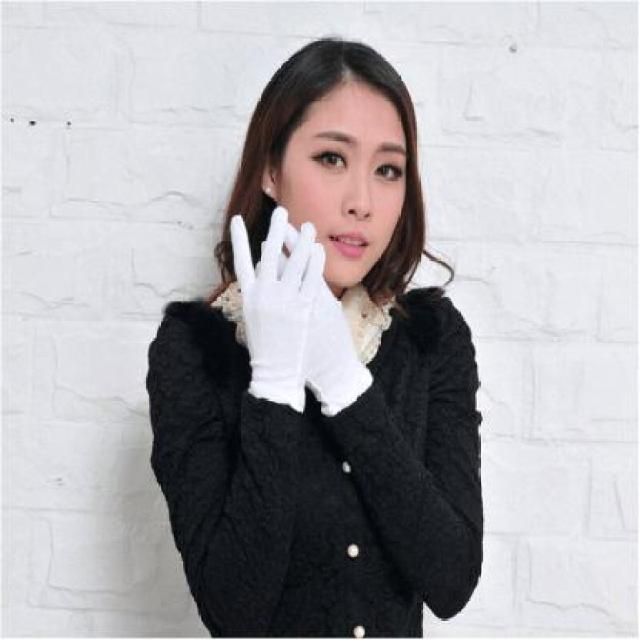face_nomask: (269, 97, 405, 286)
hand_glove: (226, 205, 345, 389)
head_nohelmet: (247, 37, 418, 112)
person: (141, 31, 494, 640)
